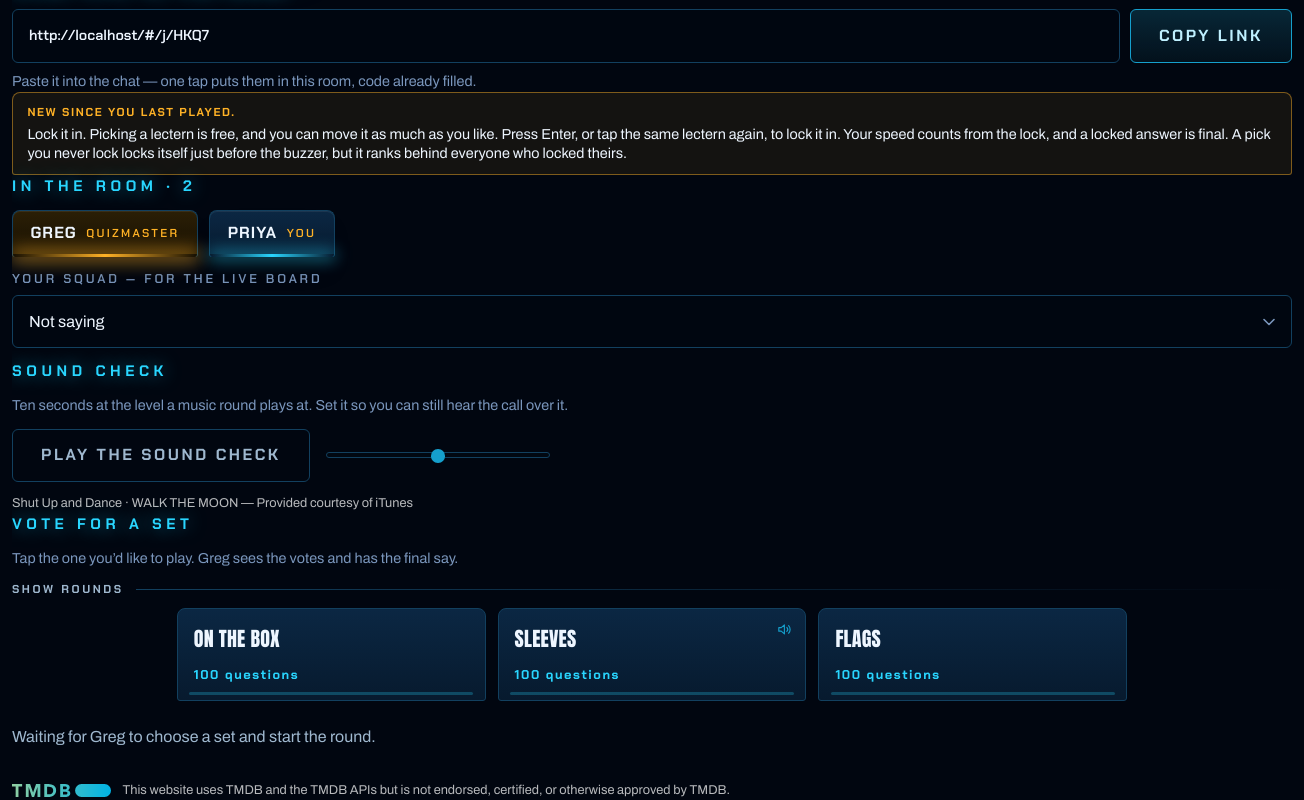
it: the lobby vote limit › locked with no vote standing says so rather than claiming one
(page scrolled)
Click the button "Sleeves 100 questions".
click(546, 638)  # box [498,608,806,701]
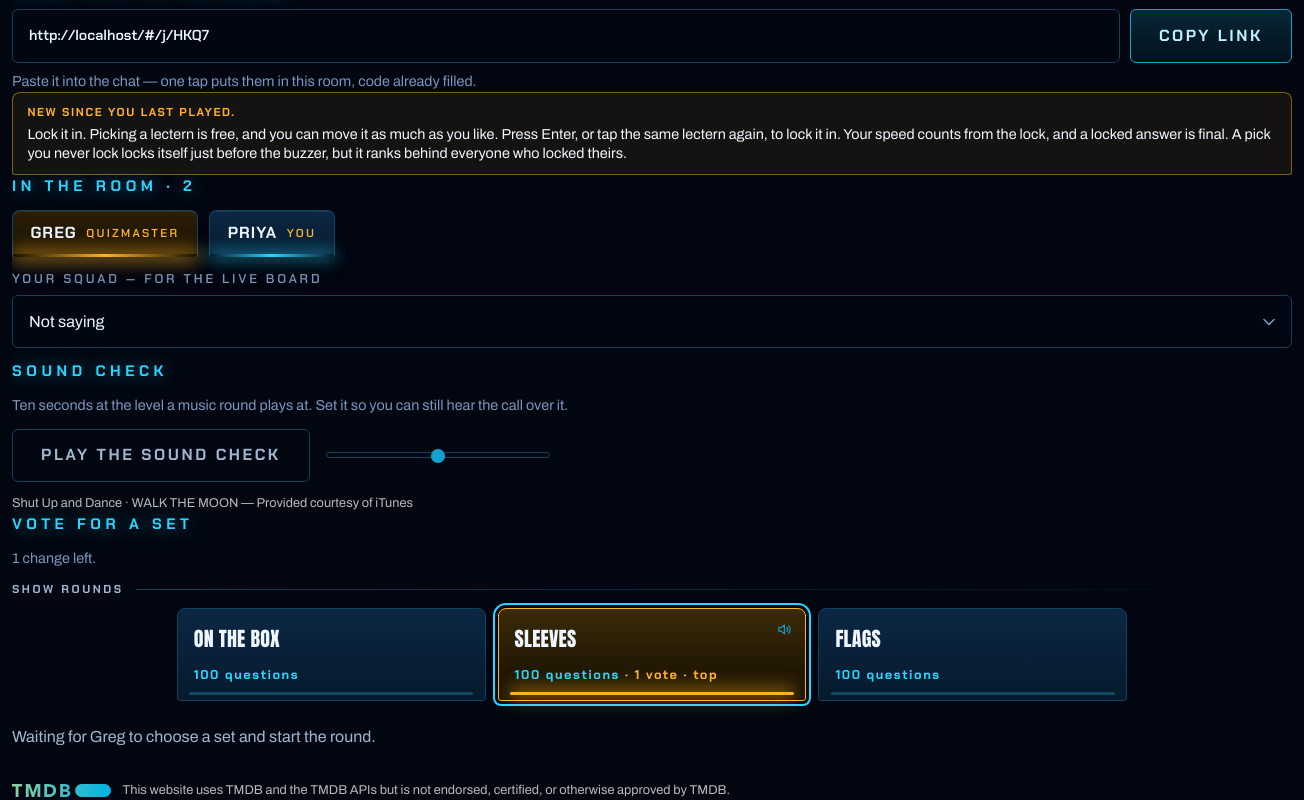
Click the button "Sleeves 100 questions · 1 vote · top".
click(546, 638)  # box [498,608,806,701]
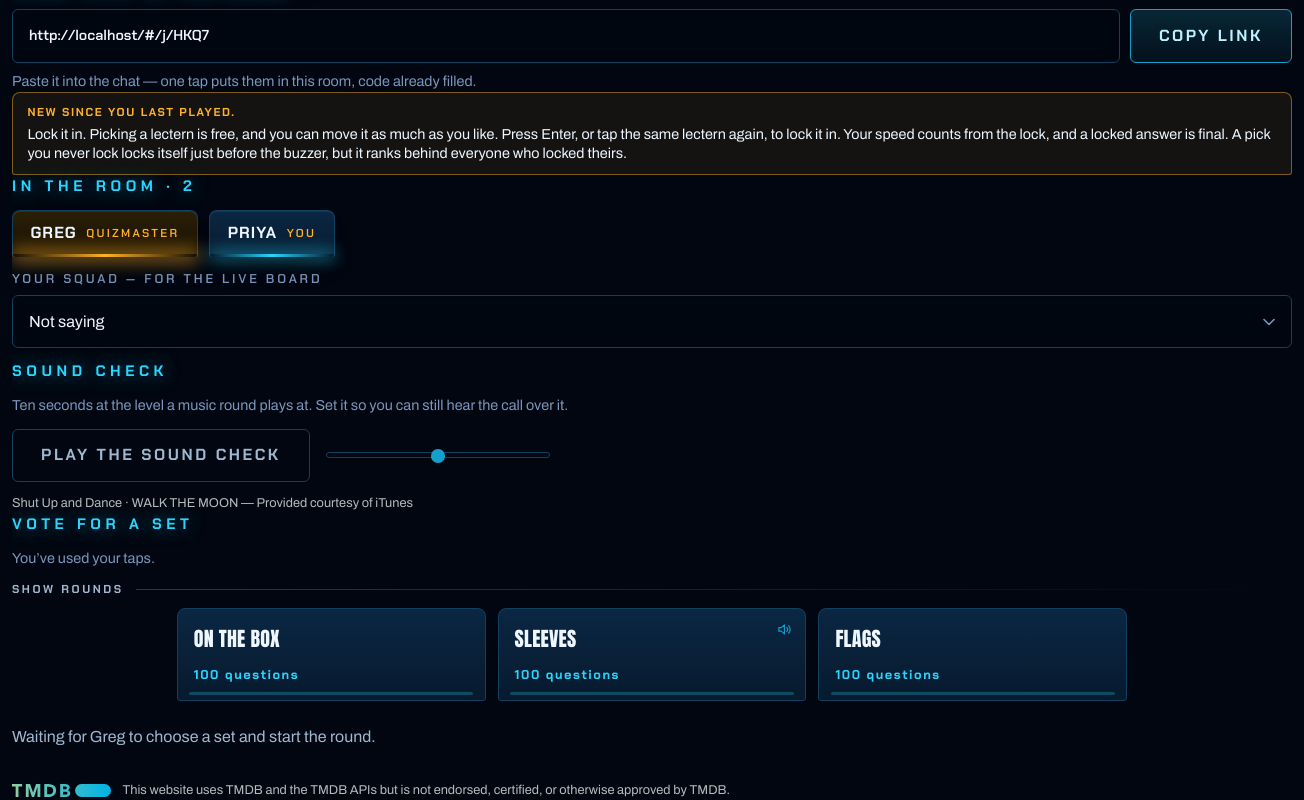
Check: the text "You’ve used your taps." is shown, box [12,550,155,566]
